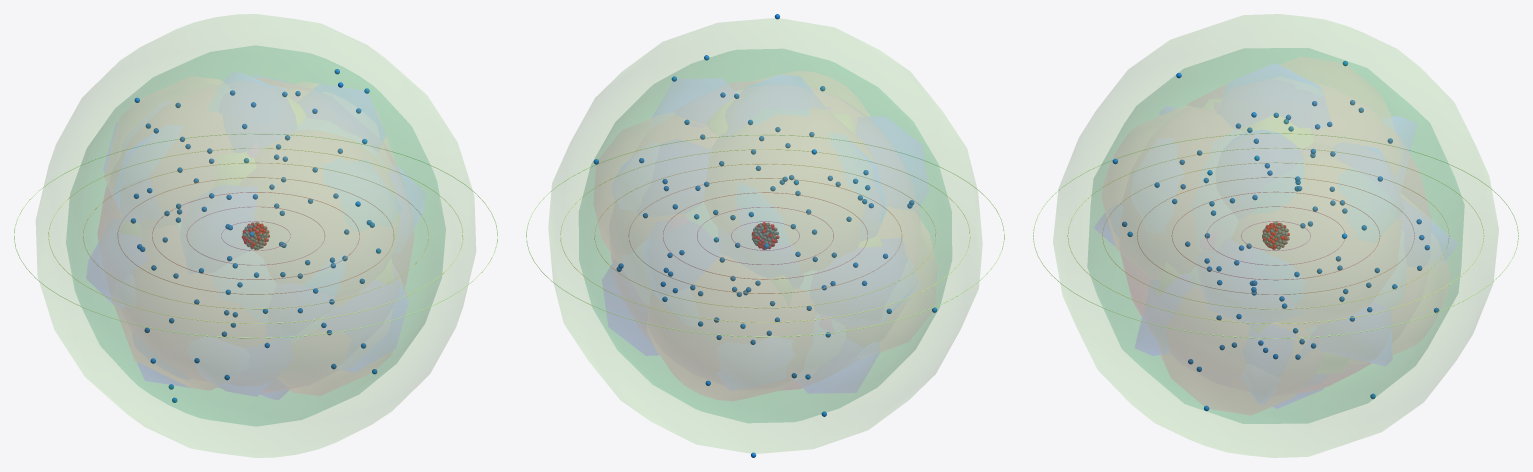
The picture shows the model from 3 angles, left to right: view 1: azimuth 30°, elevation 25°; view 2: azimuth 150°, elevation 25°; view 3: azimuth 270°, elevation 25°; orthographic projection.
Parts seen in each view (by area): view 1: Orbital_7s_0, Orbital_6s_0, Orbital_6p_0, Orbital_6d_1, Orbital_5s_0, Nivel_n7, Orbital_6d_0, Orbital_6d_3, Nivel_n6, Orbital_6p_1, Nivel_n5, Nivel_n4; view 2: Orbital_7s_0, Orbital_6s_0, Orbital_6p_1, Orbital_6d_3, Orbital_6d_0, Orbital_6p_2, Nivel_n7, Nivel_n6, Nivel_n5, Nivel_n4, Nivel_n3; view 3: Orbital_7s_0, Orbital_6s_0, Orbital_6p_0, Orbital_6p_2, Orbital_5s_0, Orbital_6d_3, Nivel_n7, Nivel_n6, Orbital_6d_1, Nivel_n5, Orbital_6d_4, Nivel_n4 (+1 smaller).
Boxes of the visible parts, x1,y1,x2,y2 form: Orbital_7s_0: (36,14,475,457); Orbital_6s_0: (66,45,445,426); Orbital_6p_0: (104,76,406,395); Orbital_6d_1: (86,72,425,399); Orbital_5s_0: (98,78,413,392); Nivel_n7: (14,133,497,338); Orbital_6d_0: (137,84,385,386); Orbital_6d_3: (103,123,408,371); Nivel_n6: (48,148,463,323); Orbital_6p_1: (112,82,395,389); Nivel_n5: (83,162,428,309); Nivel_n4: (117,177,394,294); Orbital_7s_0: (549,18,981,453); Orbital_6s_0: (579,49,951,422); Orbital_6p_1: (594,117,936,351); Orbital_6d_3: (602,116,928,355); Orbital_6d_0: (652,79,879,392); Orbital_6p_2: (647,71,869,400); Nivel_n7: (526,134,1004,337); Nivel_n6: (560,149,970,322); Nivel_n5: (594,163,936,308); Nivel_n4: (628,178,902,293); Nivel_n3: (663,192,867,279); Orbital_7s_0: (1053,14,1498,457); Orbital_6s_0: (1087,48,1464,423); Orbital_6p_0: (1161,57,1390,414); Orbital_6p_2: (1102,106,1449,364); Orbital_5s_0: (1121,85,1430,392); Orbital_6d_3: (1135,106,1416,365); Nivel_n7: (1033,133,1518,338); Nivel_n6: (1067,148,1484,324); Orbital_6d_1: (1224,63,1322,408); Nivel_n5: (1102,162,1449,309); Orbital_6d_4: (1094,214,1457,403); Nivel_n4: (1137,177,1414,294).
Bounding box in the file's own units: 2.1 × 1.93 × 2.1.
